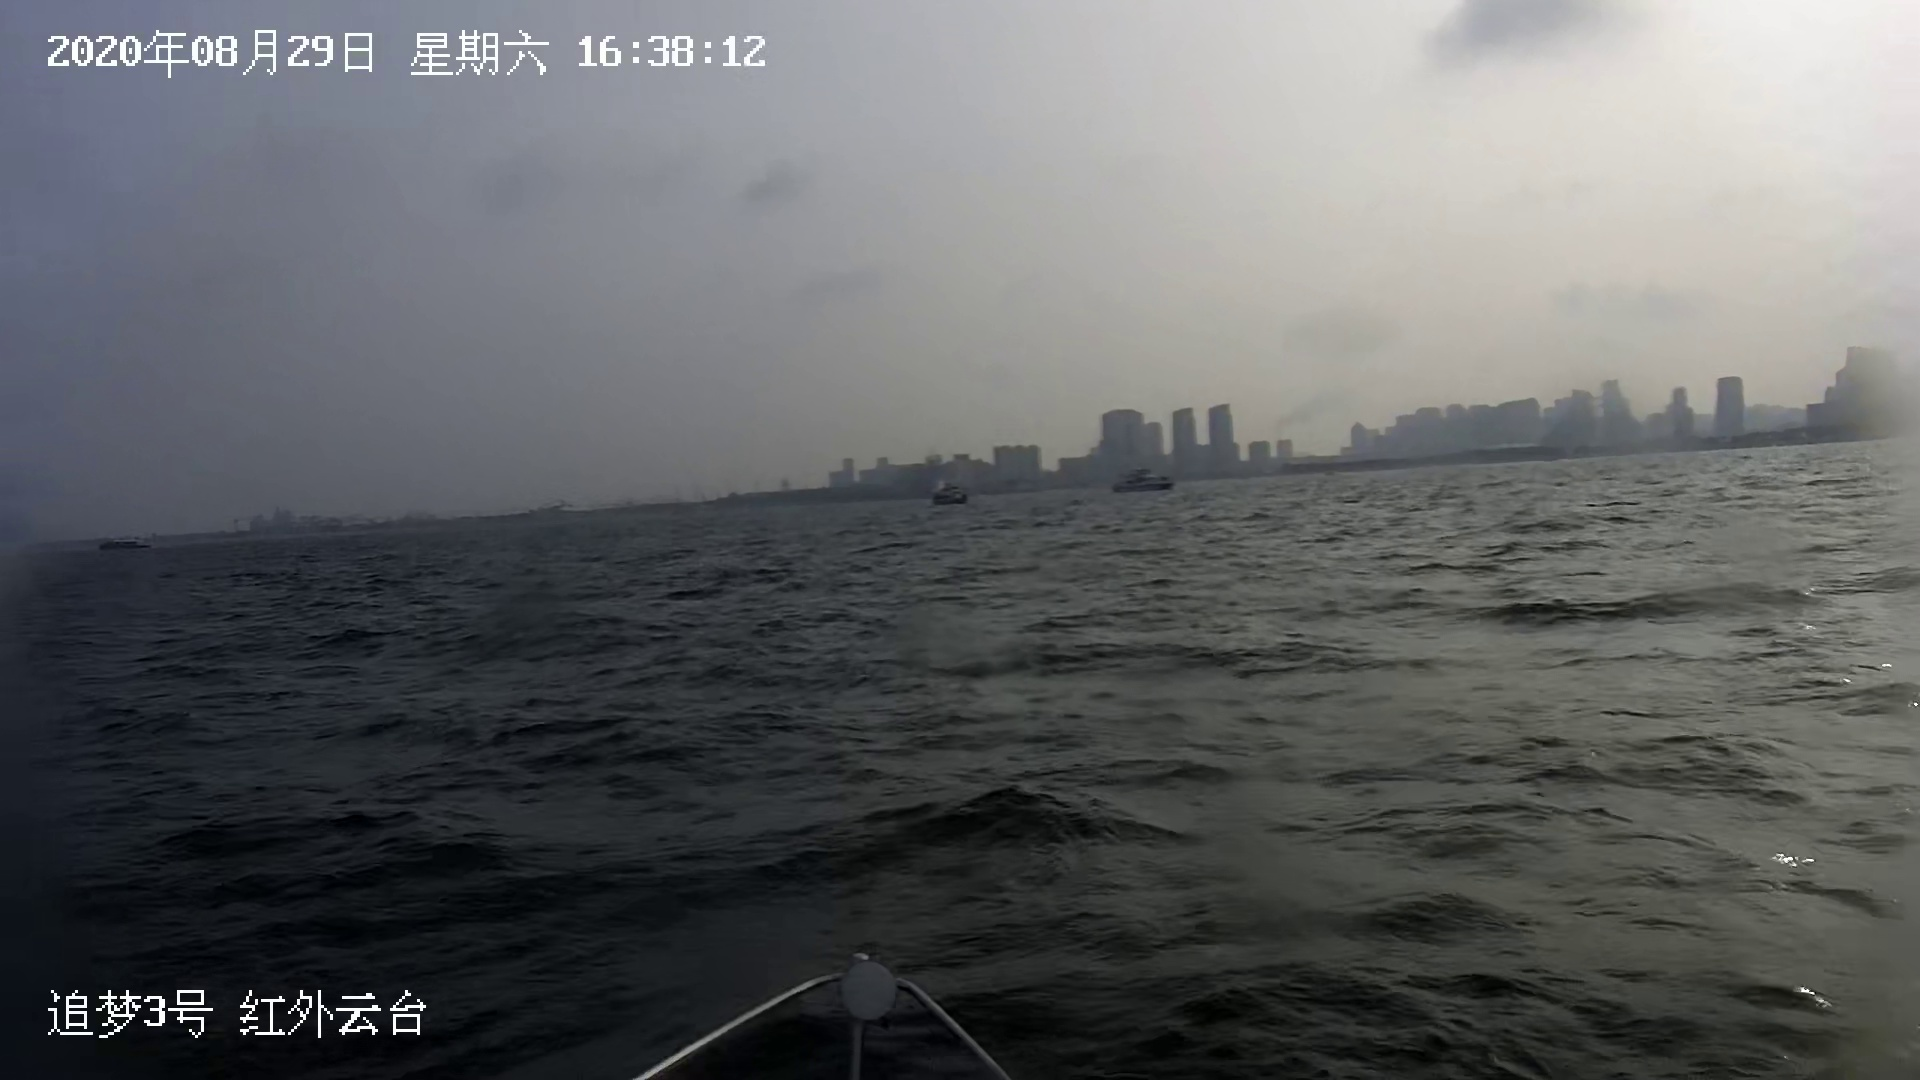barrier: (1095, 469, 1178, 495), (935, 473, 978, 510)
coast: (108, 338, 1920, 549)
